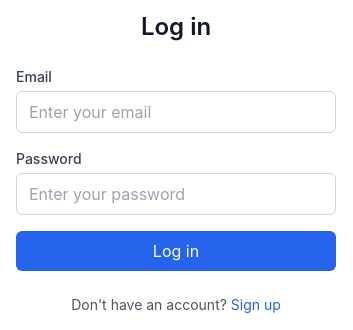
Test: Login › shows loading state while submitting
In the field labelled "Email": (176, 112) [16,91,336,133], type "test@example.com"
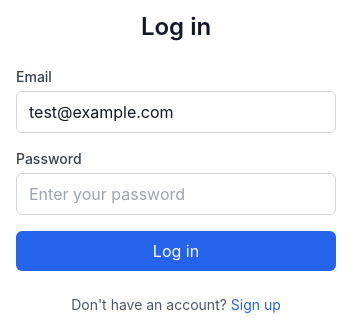
In the password field labelled "Password": (176, 194) [16,173,336,215], type "password123"
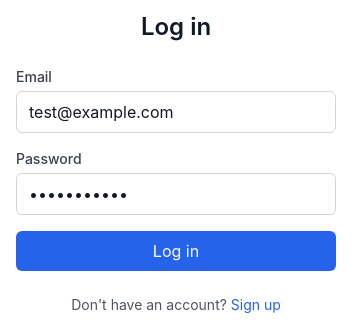
Click the button "Log in": (176, 251) [16,231,336,271]
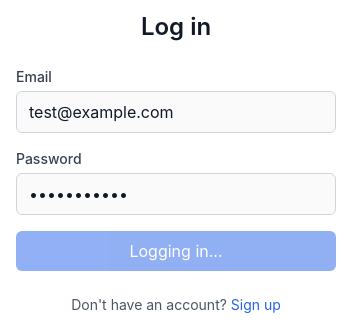
Expected: the field labelled "Email" is disabled, [16,91,336,133]
Expected: the button "Logging in..." is disabled, [16,231,336,271]
